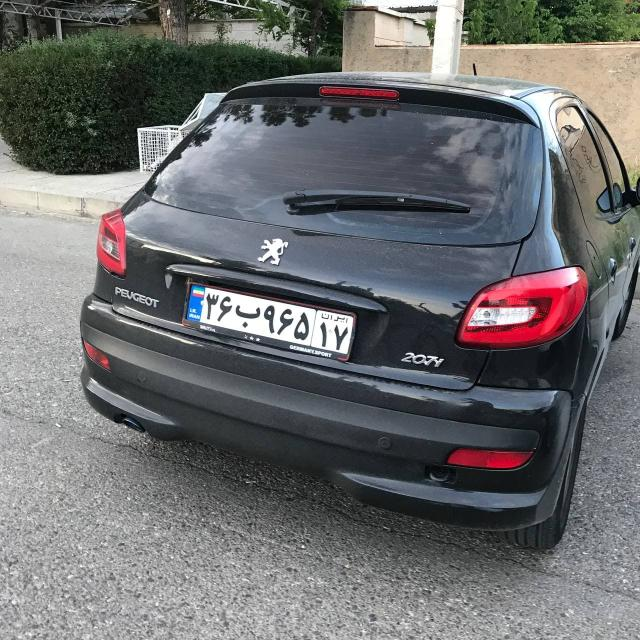Plates: (185, 284, 355, 354)
